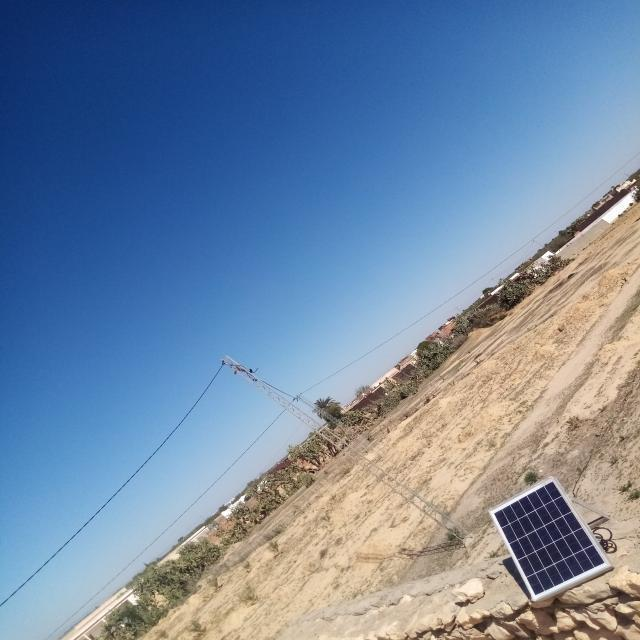Normal Solar Panel: (489, 477, 611, 601)
